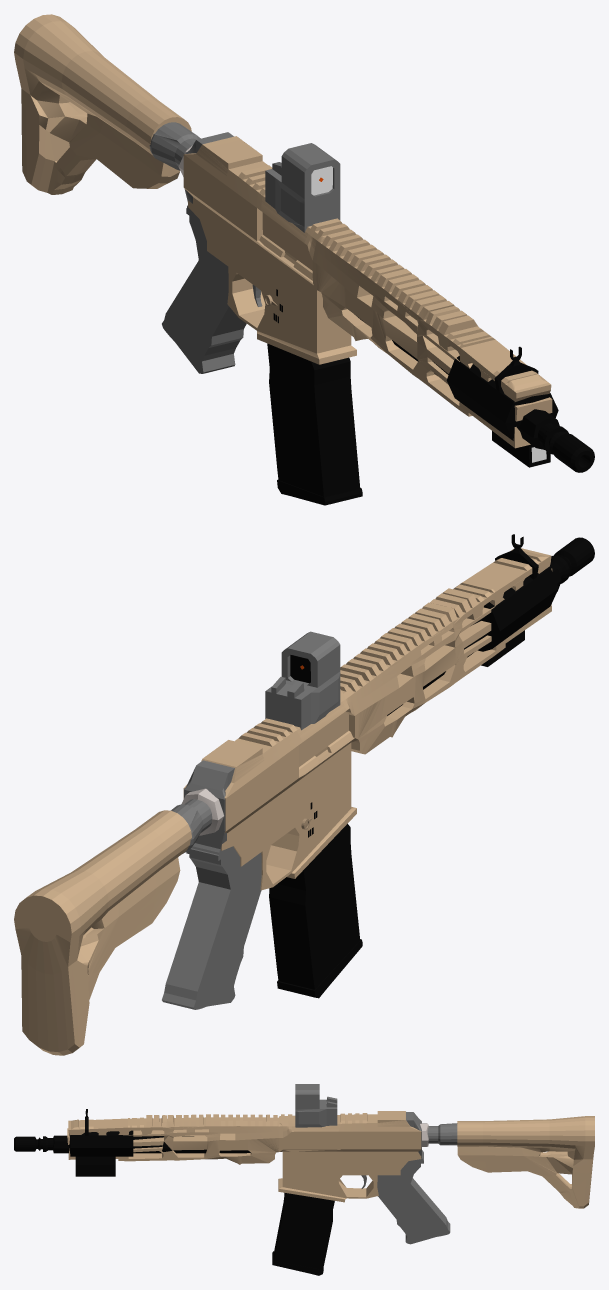
File: D5 - Assault Rifle.gltf
3 renders of one model, top to bottom at view 1: azimuth 30°, elevation 25°; view 2: azimuth 150°, elevation 25°; view 3: azimuth 270°, elevation 25°, orthographic. The views are drawn at different scales.
Visible parts, largest first — view 1: D5 - AR, Cubo (×6), Cilindro (×3); view 2: Cubo (×6), D5 - AR, Cilindro (×3); view 3: D5 - AR, Cubo (×5), Cilindro (×3).
Part boxes in pixels (bbox=[...]): D5 - AR: bbox=[183, 136, 552, 448]; Cubo (×6): bbox=[162, 132, 559, 505]; Cilindro (×3): bbox=[14, 14, 594, 472]; Cubo (×6): bbox=[162, 534, 558, 1009]; D5 - AR: bbox=[183, 548, 552, 890]; Cilindro (×3): bbox=[14, 537, 594, 1055]; D5 - AR: bbox=[67, 1111, 421, 1202]; Cubo (×5): bbox=[53, 1084, 450, 1275]; Cilindro (×3): bbox=[14, 1116, 594, 1208].
Bounding box in the file's own units: 0.324 × 1.84 × 5.26.
